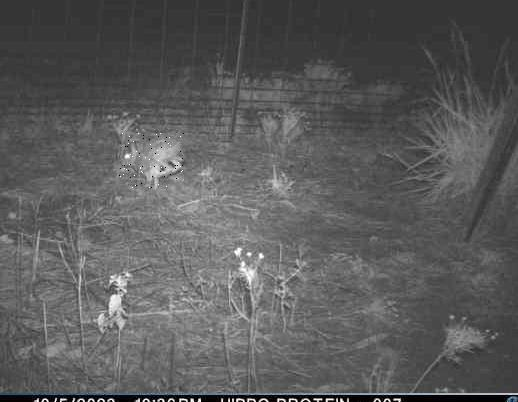Rabbit: (119, 134, 185, 189)
